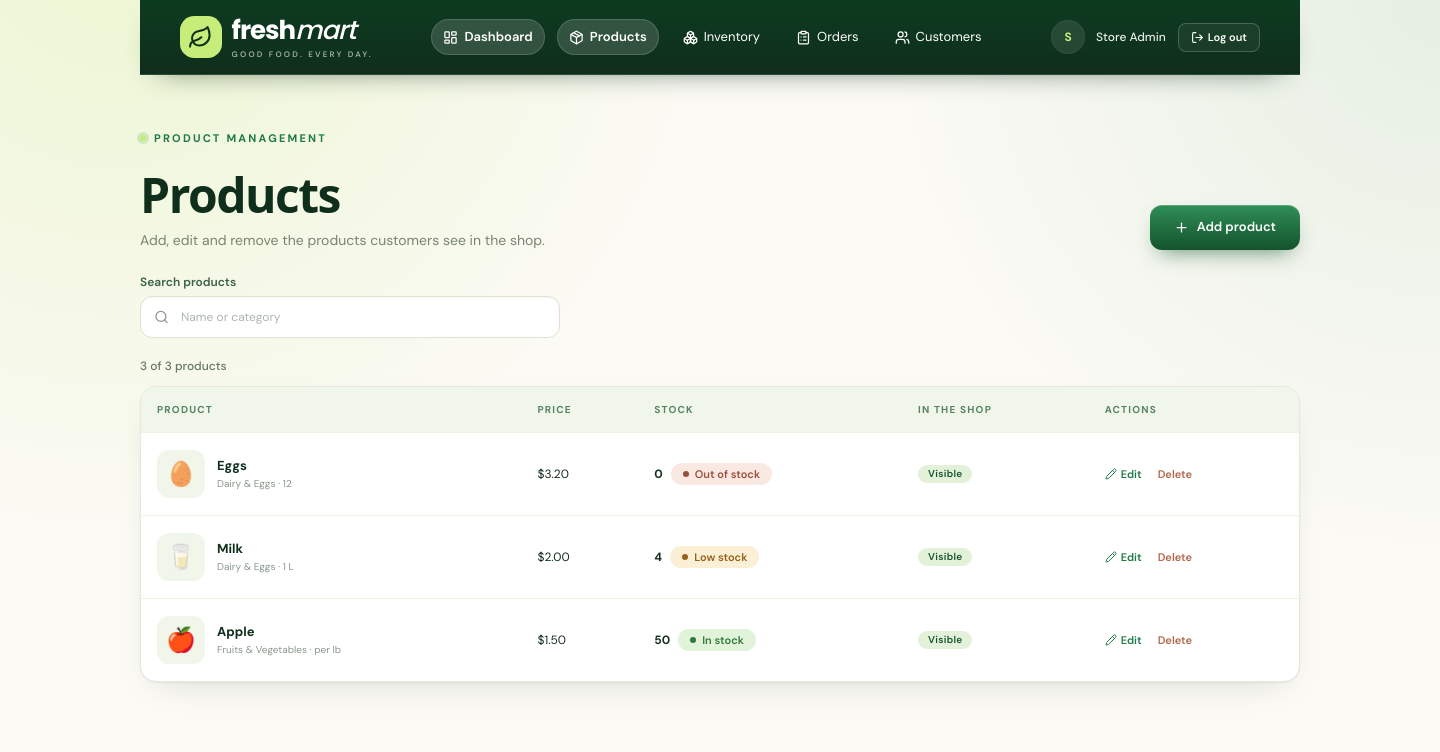
Test case: Sprint 4: admin screens › the product list shows stock badges and deletes only after confirming
This screenshot has width=1440, height=752.
Check: the text "Eggs" is shown, box 217,457 -> 247,474
Check: the text "Out of stock" is shown, box 671,463 -> 772,486
Click the button "Delete" in the row of "12".
click(1175, 474)  # box 1158,467 -> 1192,482
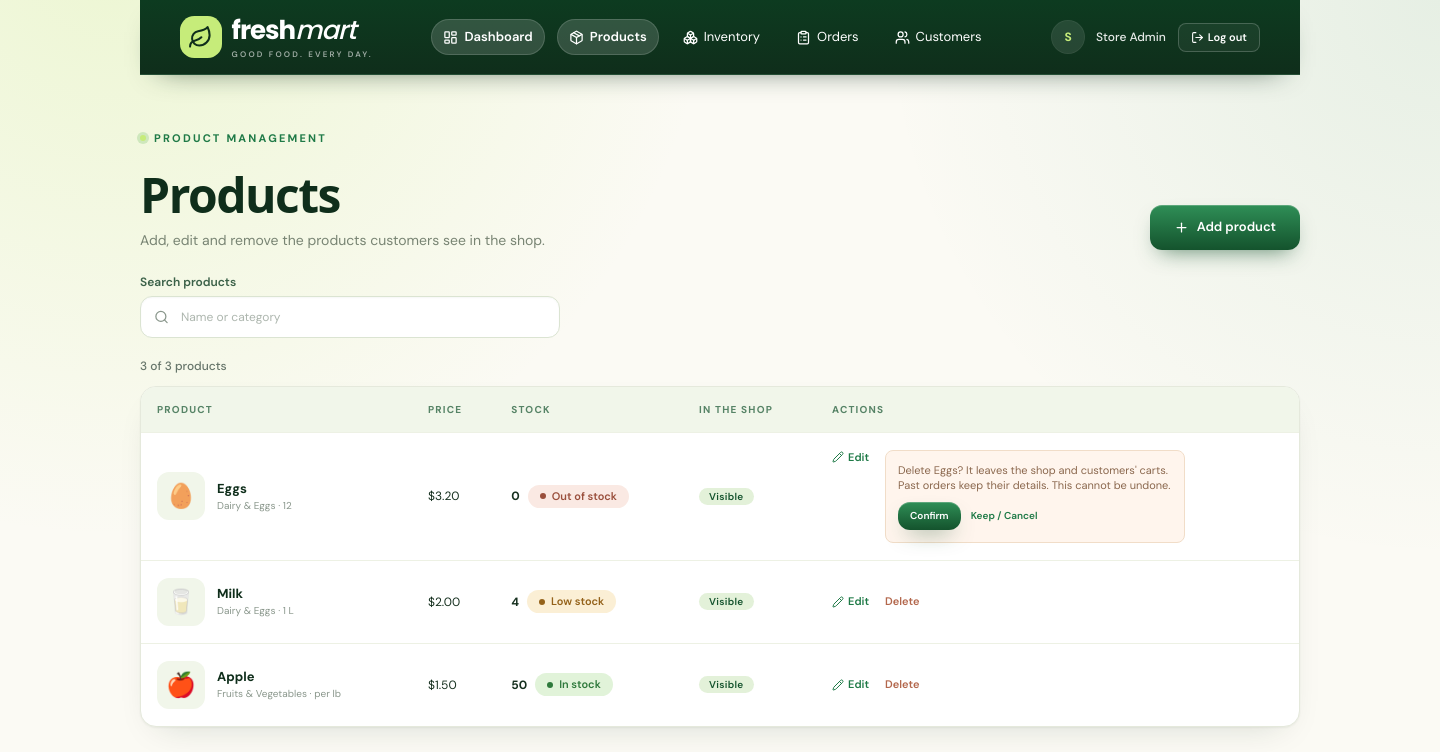
Click the button "Confirm".
click(929, 516)  # box 898,502 -> 961,530
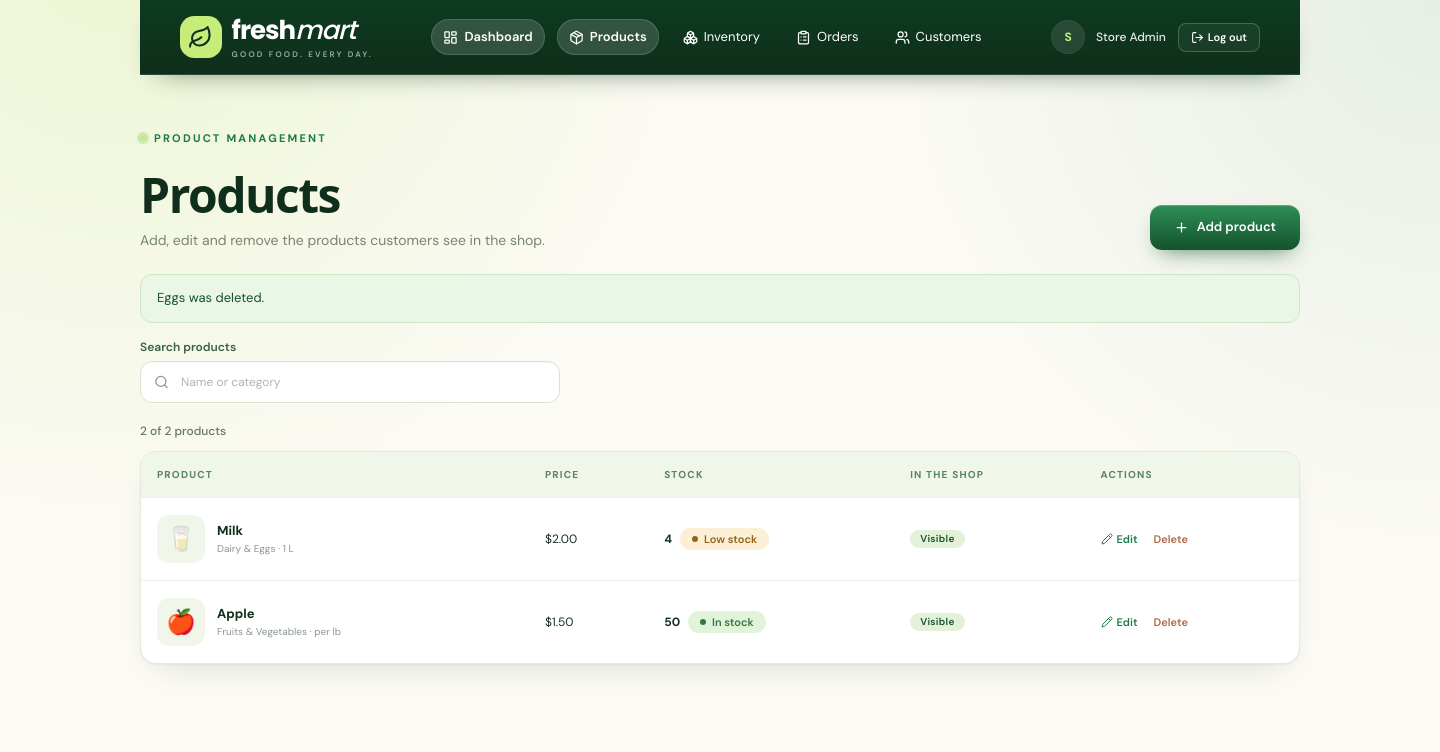
Check: the text "Eggs was deleted." is shown, box 140,274 -> 1300,323
Click the link with aria-label "Edit Apple".
click(1119, 622)  # box 1100,615 -> 1138,629
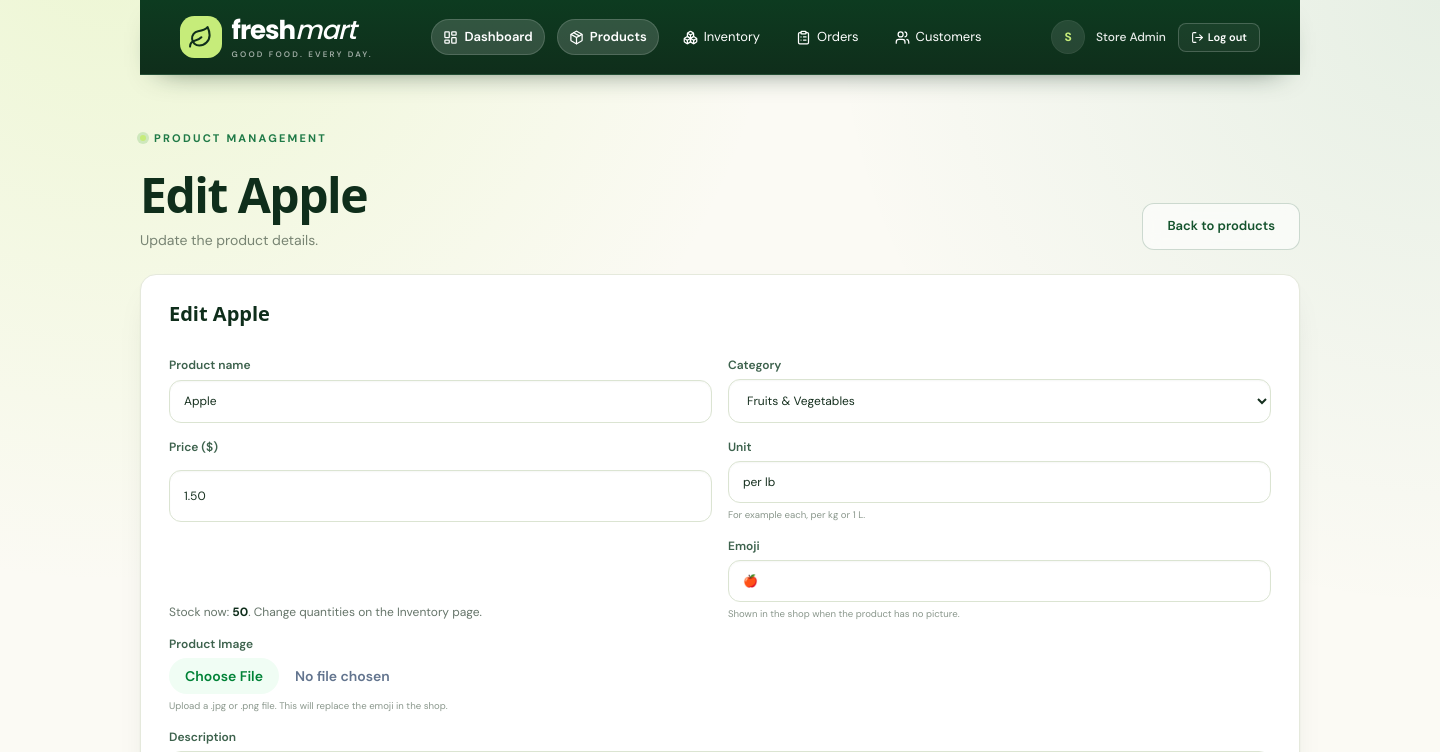
Check: the field labelled "Product name" holds "Apple", box 169,380 -> 712,423
